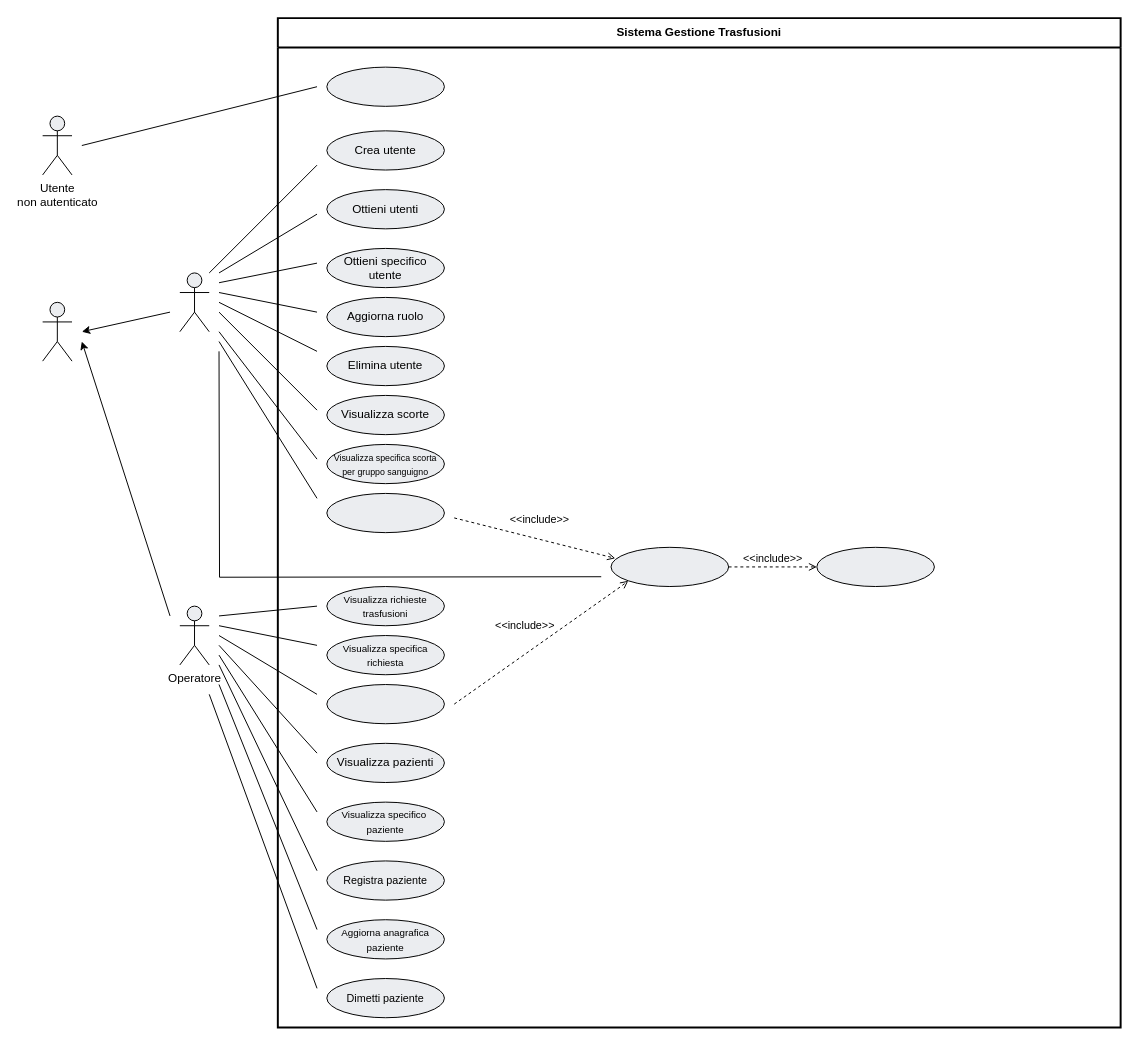
The diagram is 1138 pixels wide and 1045 high, and some of its shapes have lost their labels. Each missing label, with the box of its shape:
Admin: (179, 272, 209, 332)
Aggiorna quantità scorte: (326, 492, 444, 533)
Assegnazione sacche: (816, 546, 934, 587)
Calcola Min Cost Max Flow: (610, 546, 729, 587)
Esegue Login: (326, 66, 444, 106)
Inserimento nuova richiesta: (326, 684, 444, 724)
Utente autenticato: (42, 301, 72, 361)
